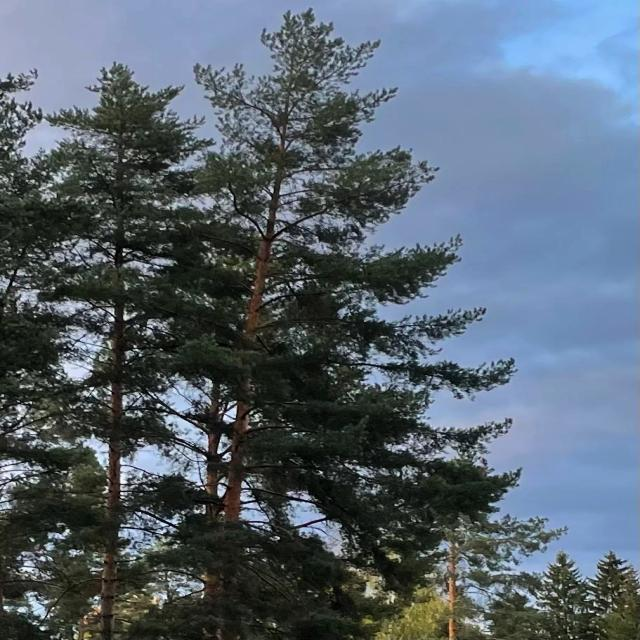pine: (170, 5, 530, 628), (62, 66, 209, 634)
